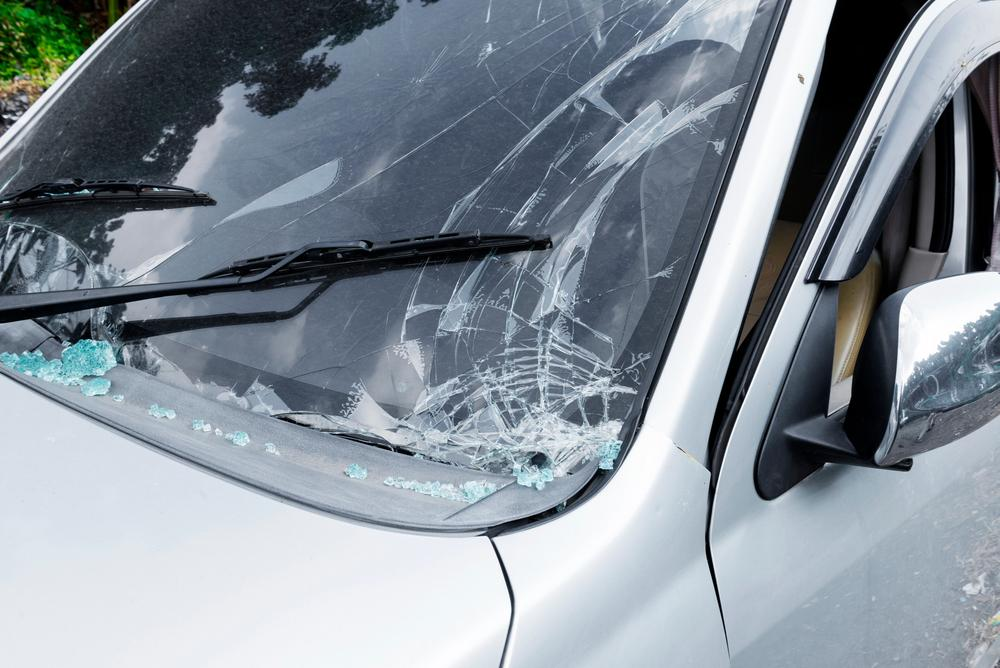glass shatter: (0, 0, 780, 477)
